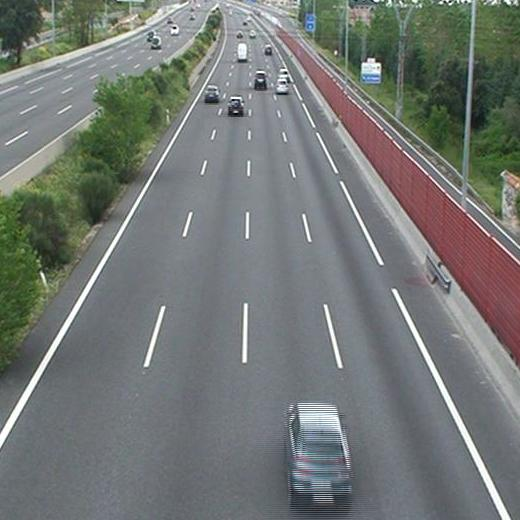car: (287, 405, 348, 500), (227, 97, 243, 113), (205, 85, 219, 100), (254, 71, 267, 87), (276, 79, 289, 93), (279, 69, 289, 78), (264, 45, 272, 53)
van: (238, 43, 247, 61)
